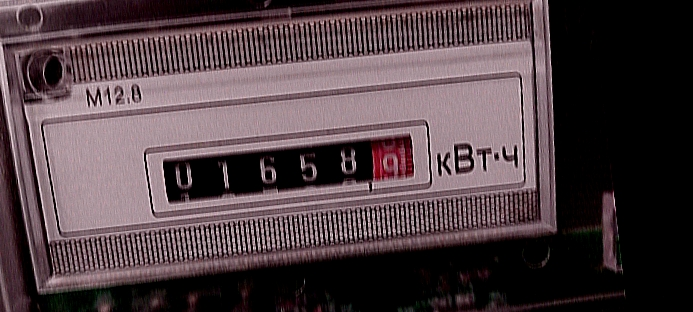0: (174, 157, 197, 189)
1: (217, 156, 237, 190)
5: (299, 148, 323, 181)
6: (259, 150, 282, 185)
8: (339, 141, 362, 175)
9: (380, 150, 404, 180)
screen: (136, 108, 443, 224)
